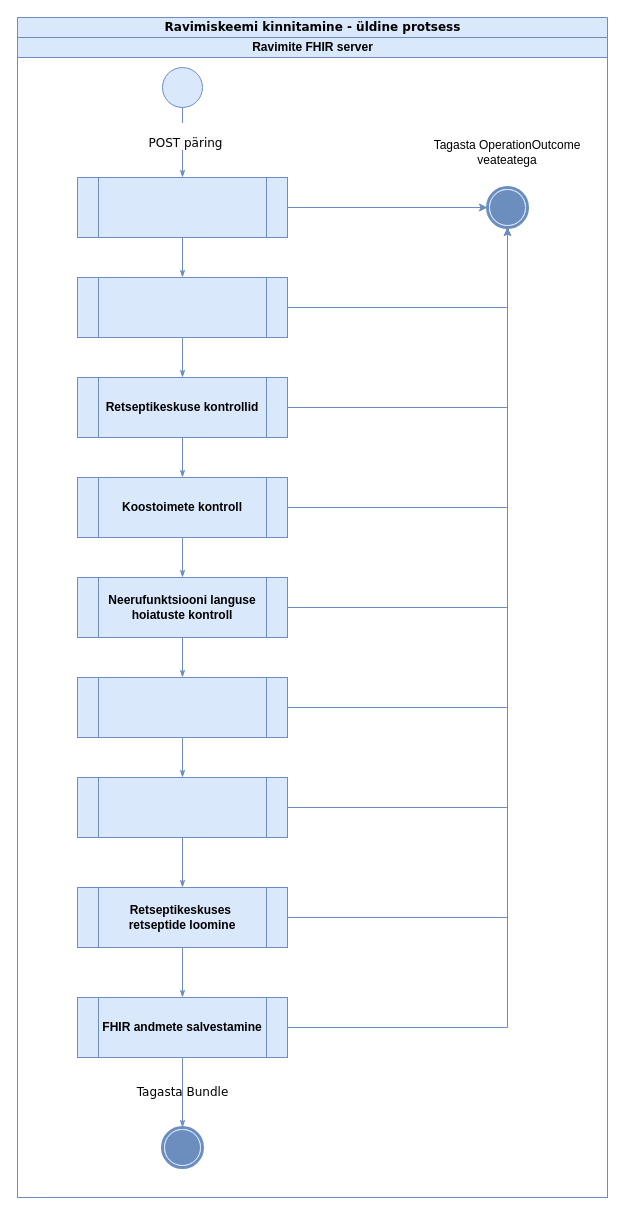
The diagram is 625 pixels wide and 1215 high, and some of its shapes have lost their labels. The centre of each missing label's shape, as x and y in pixels:
"Retseptikeskuse validatsioon" belongs at point (182, 707).
"Retseptikeskuses retseptide tühistamine" belongs at point (182, 807).
"Sisendandmete esmane validatsioon ja töötlus" belongs at point (182, 207).
"Sisendi äriloogilised kontrollid" belongs at point (182, 307).
